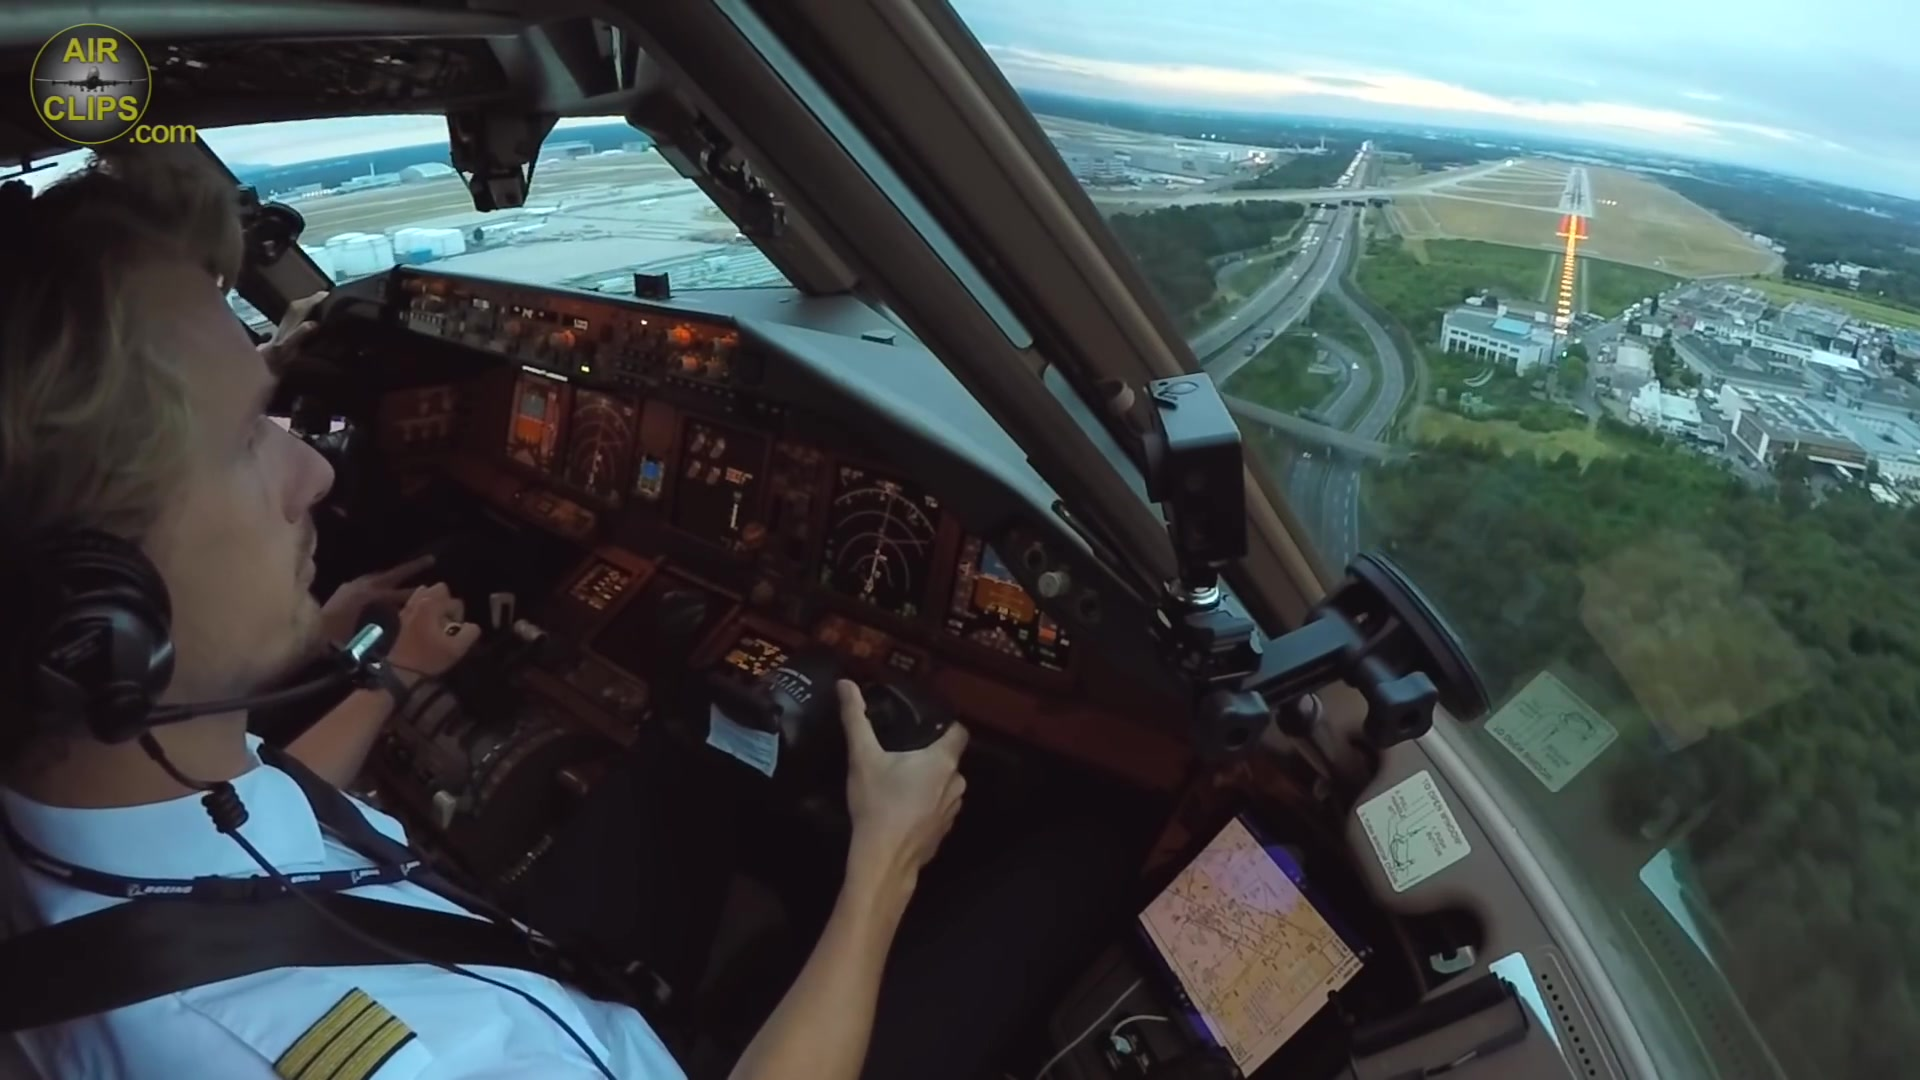runway: (1557, 164, 1598, 219)
